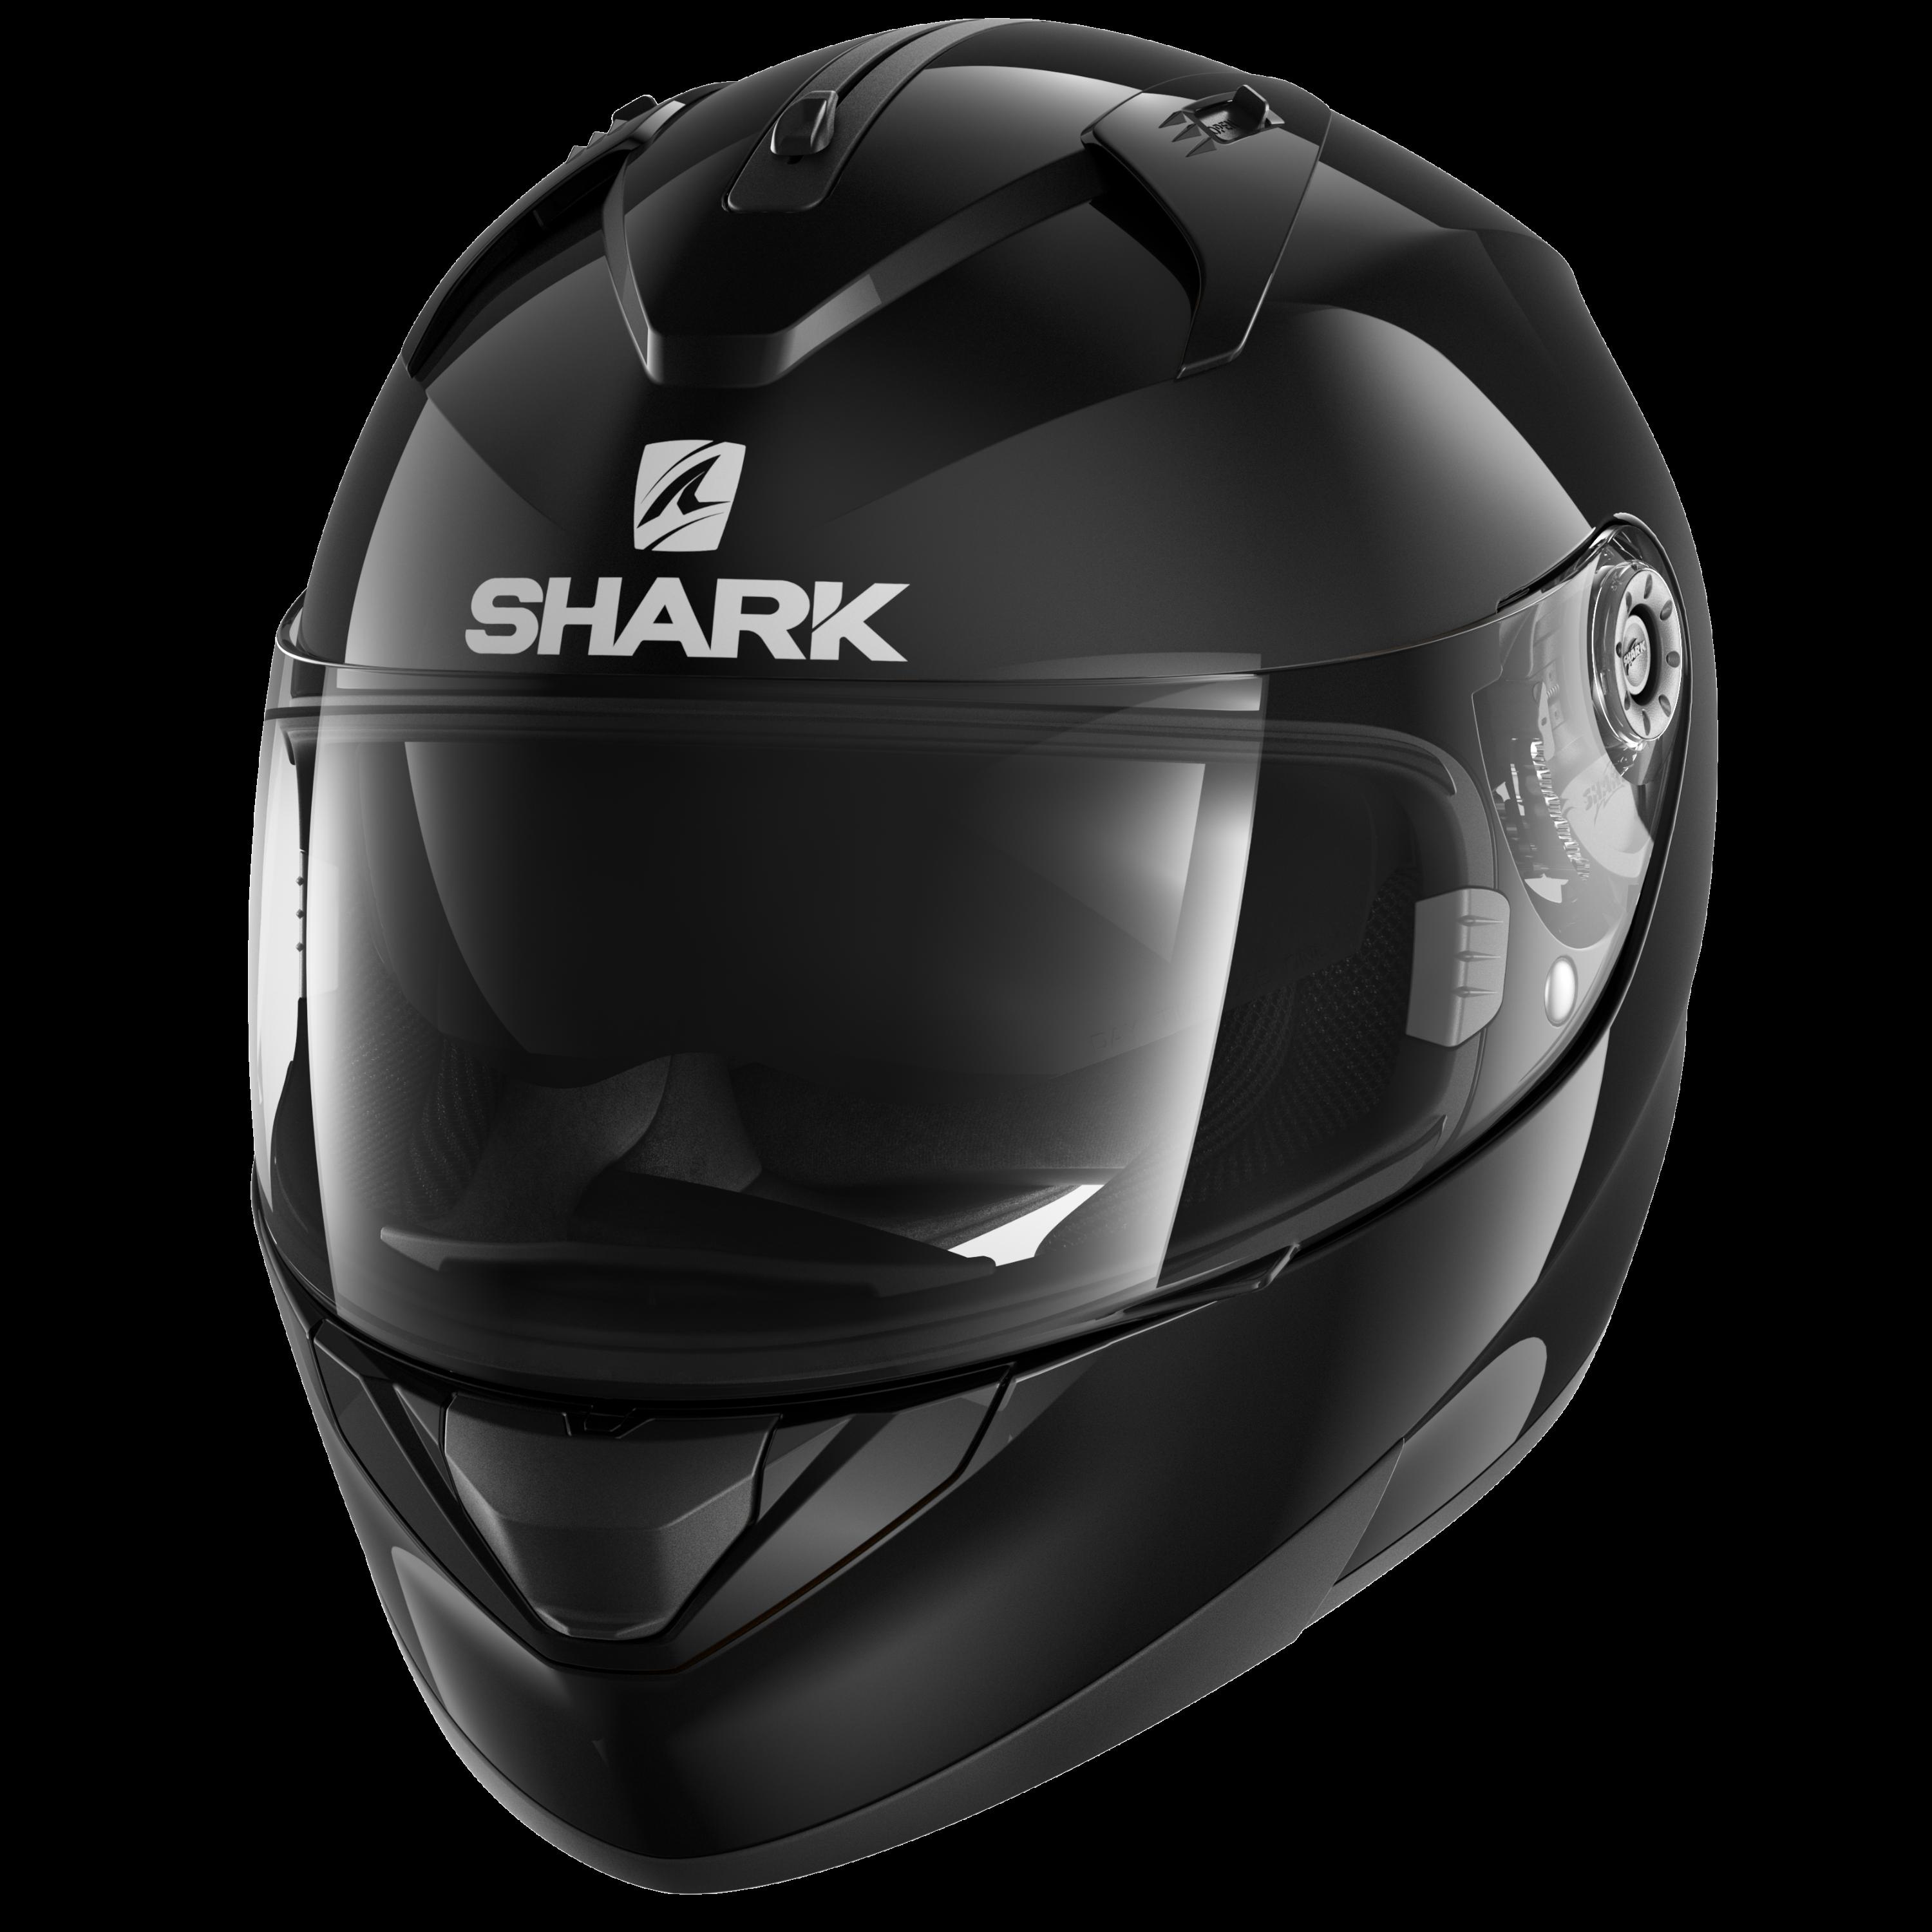helmet: (150, 4, 1762, 1918)
